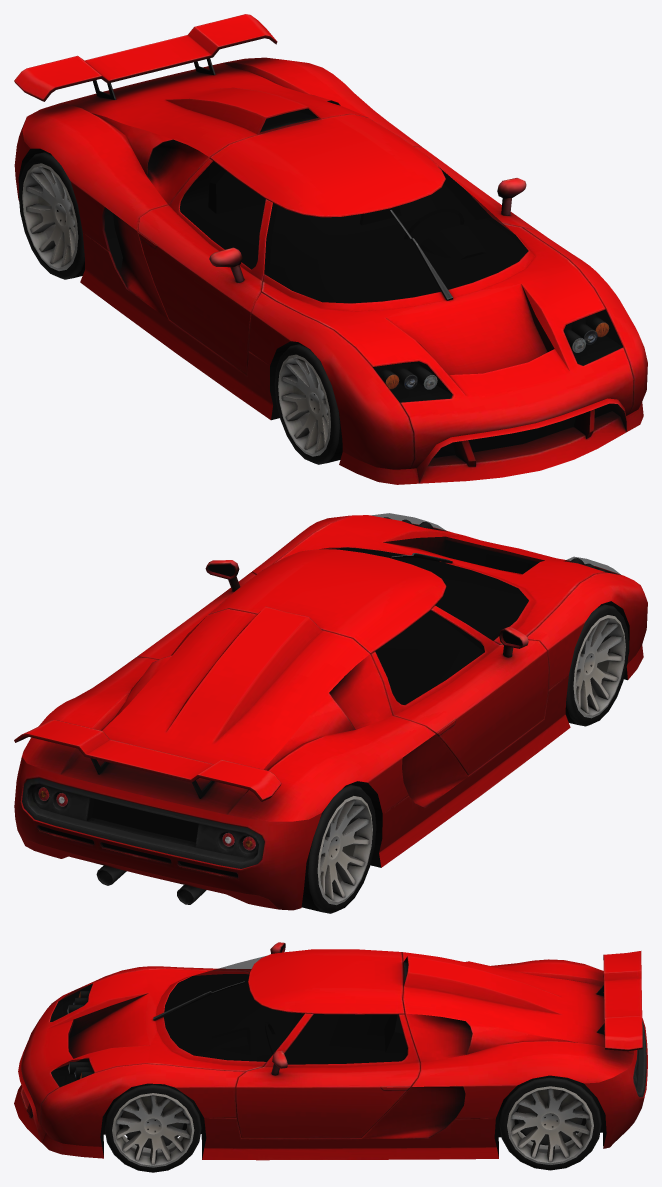
Rendered from sport.glb.
3 views of the same model, one above another, from view 1: azimuth 30°, elevation 25°; view 2: azimuth 150°, elevation 25°; view 3: azimuth 270°, elevation 25° (orthographic). The views are drawn at different scales.
Visible parts, largest first — view 1: Sport body_Body_0, Sport body_Glass_0, Wheel_H003_Wheel_0, Wheel_H002_Wheel_0, Sport body_Optics_0; view 2: Sport body_Body_0, Sport body_Glass_0, Wheel_H003_Wheel_0, Wheel_H002_Wheel_0, Sport body_Optics_0; view 3: Sport body_Body_0, Sport body_Glass_0, Wheel_H001_Wheel_0, Wheel_H_Wheel_0.
Boxes of the visible parts, bbox=[...] form: Sport body_Body_0: bbox=[14, 14, 647, 484]; Sport body_Glass_0: bbox=[180, 161, 622, 402]; Wheel_H003_Wheel_0: bbox=[18, 151, 84, 279]; Wheel_H002_Wheel_0: bbox=[274, 343, 342, 464]; Sport body_Optics_0: bbox=[385, 322, 609, 389]; Sport body_Body_0: bbox=[14, 515, 647, 910]; Sport body_Glass_0: bbox=[320, 513, 620, 704]; Wheel_H003_Wheel_0: bbox=[301, 784, 376, 913]; Wheel_H002_Wheel_0: bbox=[565, 604, 628, 726]; Sport body_Optics_0: bbox=[38, 787, 255, 850]; Sport body_Body_0: bbox=[14, 942, 647, 1160]; Sport body_Glass_0: bbox=[50, 956, 407, 1086]; Wheel_H001_Wheel_0: bbox=[499, 1075, 601, 1170]; Wheel_H_Wheel_0: bbox=[104, 1083, 201, 1172].
Size of the model in its own units: 1.77 by 1.04 by 3.91.
Materials: 4 (3 with a texture image).
